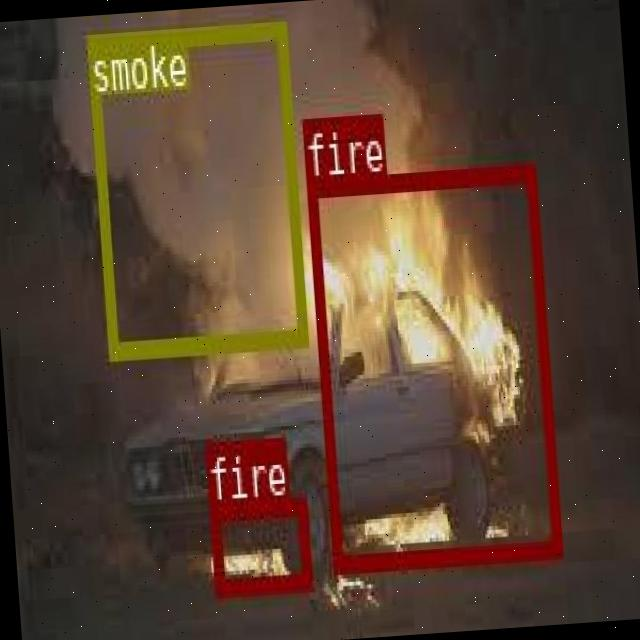fire: (306, 161, 560, 568), (208, 496, 310, 594)
smoke: (84, 19, 306, 358)
